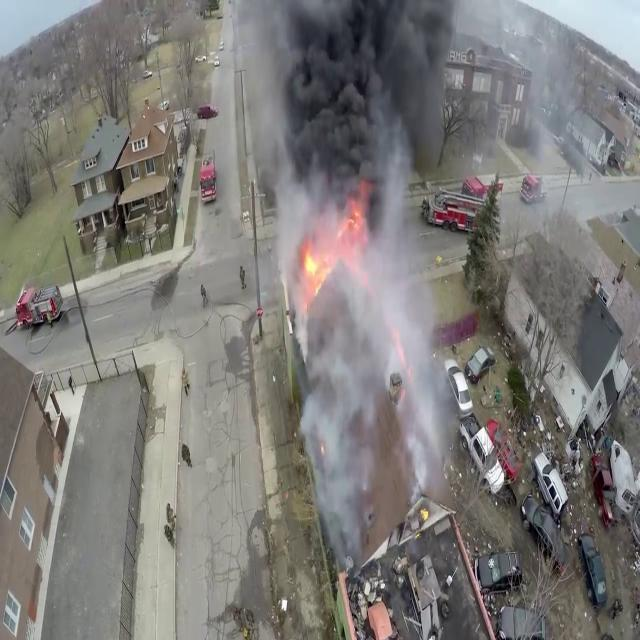Fire: (299, 197, 367, 309)
Smoke: (218, 0, 463, 238), (235, 318, 466, 555)
